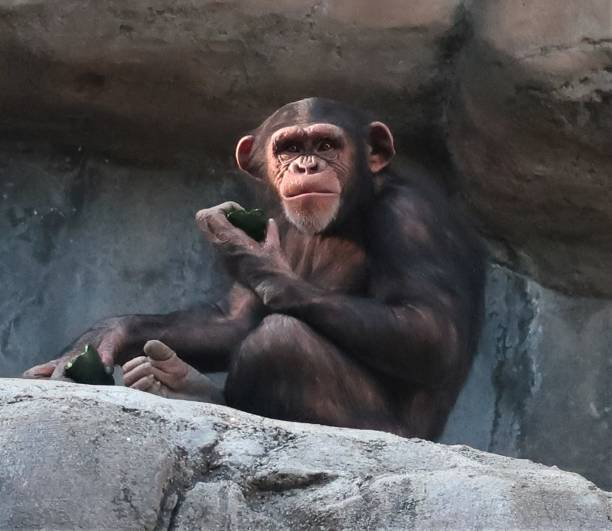chimpanzee: (222, 83, 410, 265)
